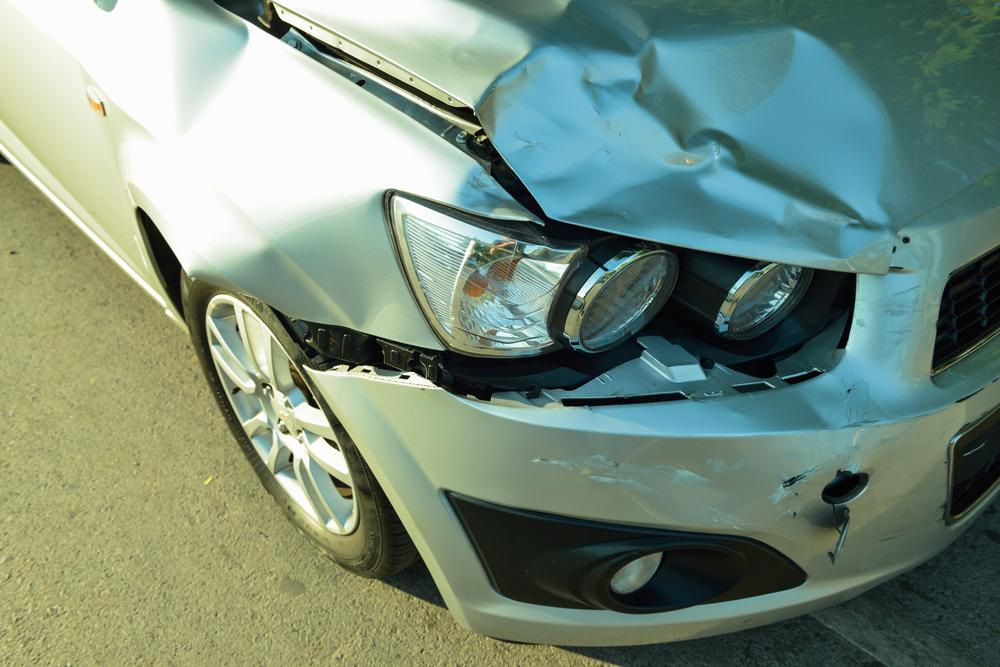dent: (477, 0, 891, 256), (173, 8, 424, 340)
scratch: (529, 451, 820, 534)
